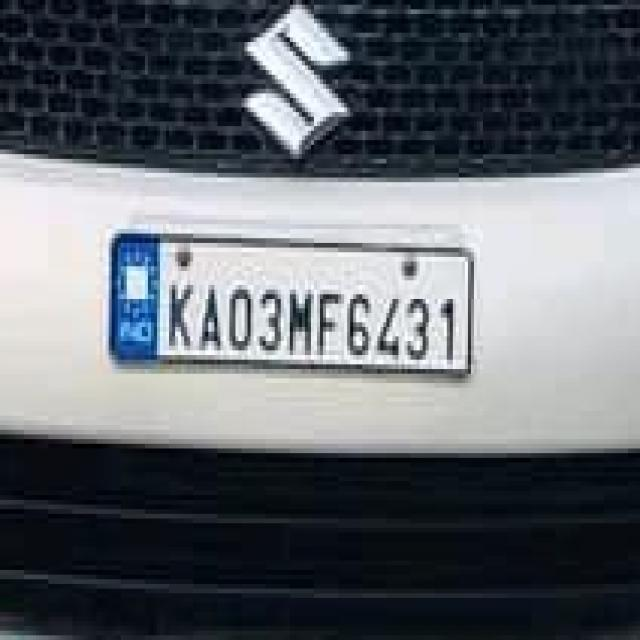0: (226, 278, 254, 354)
1: (438, 285, 462, 368)
3: (403, 280, 432, 372), (256, 282, 284, 361)
4: (374, 294, 406, 371)
6: (345, 286, 371, 362)
A: (194, 276, 223, 359)
F: (318, 282, 344, 364)
K: (168, 274, 194, 356)
M: (282, 279, 316, 361)
